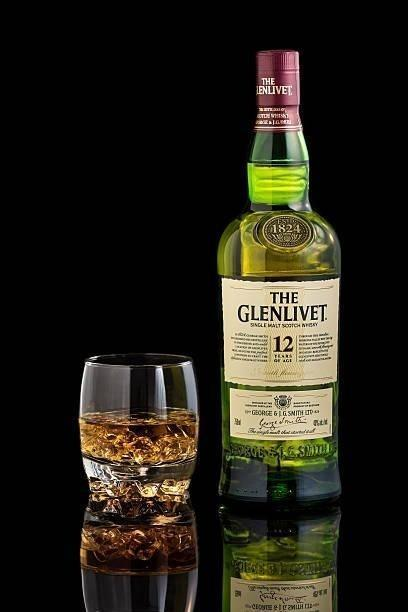bottle-glass: (213, 44, 346, 510)
glass-normal: (76, 350, 202, 527)
